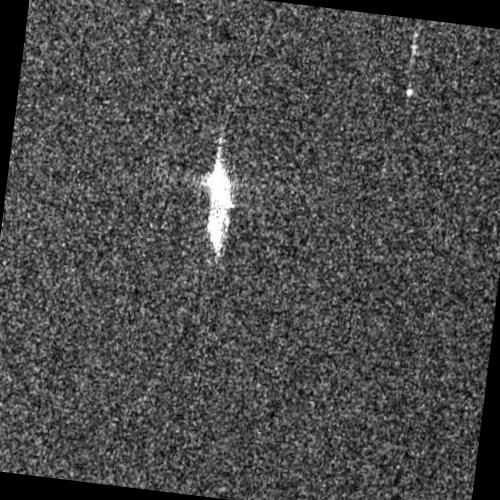ship: (205, 155, 232, 253)
